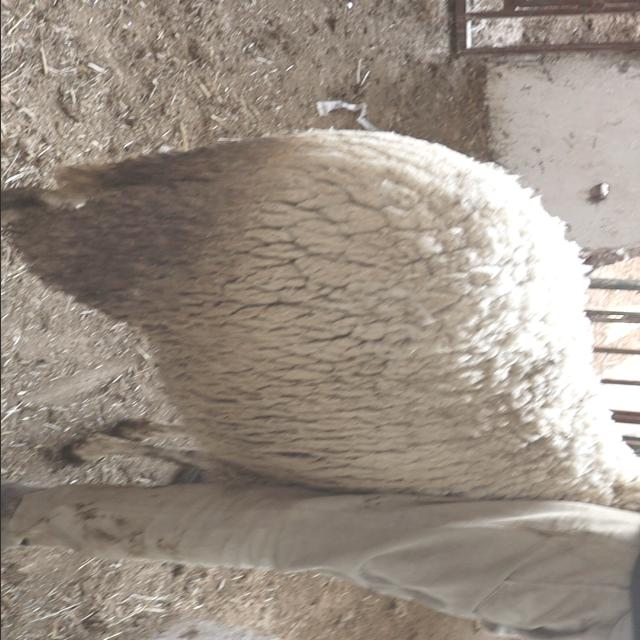Score_5: (1, 129, 640, 510)
